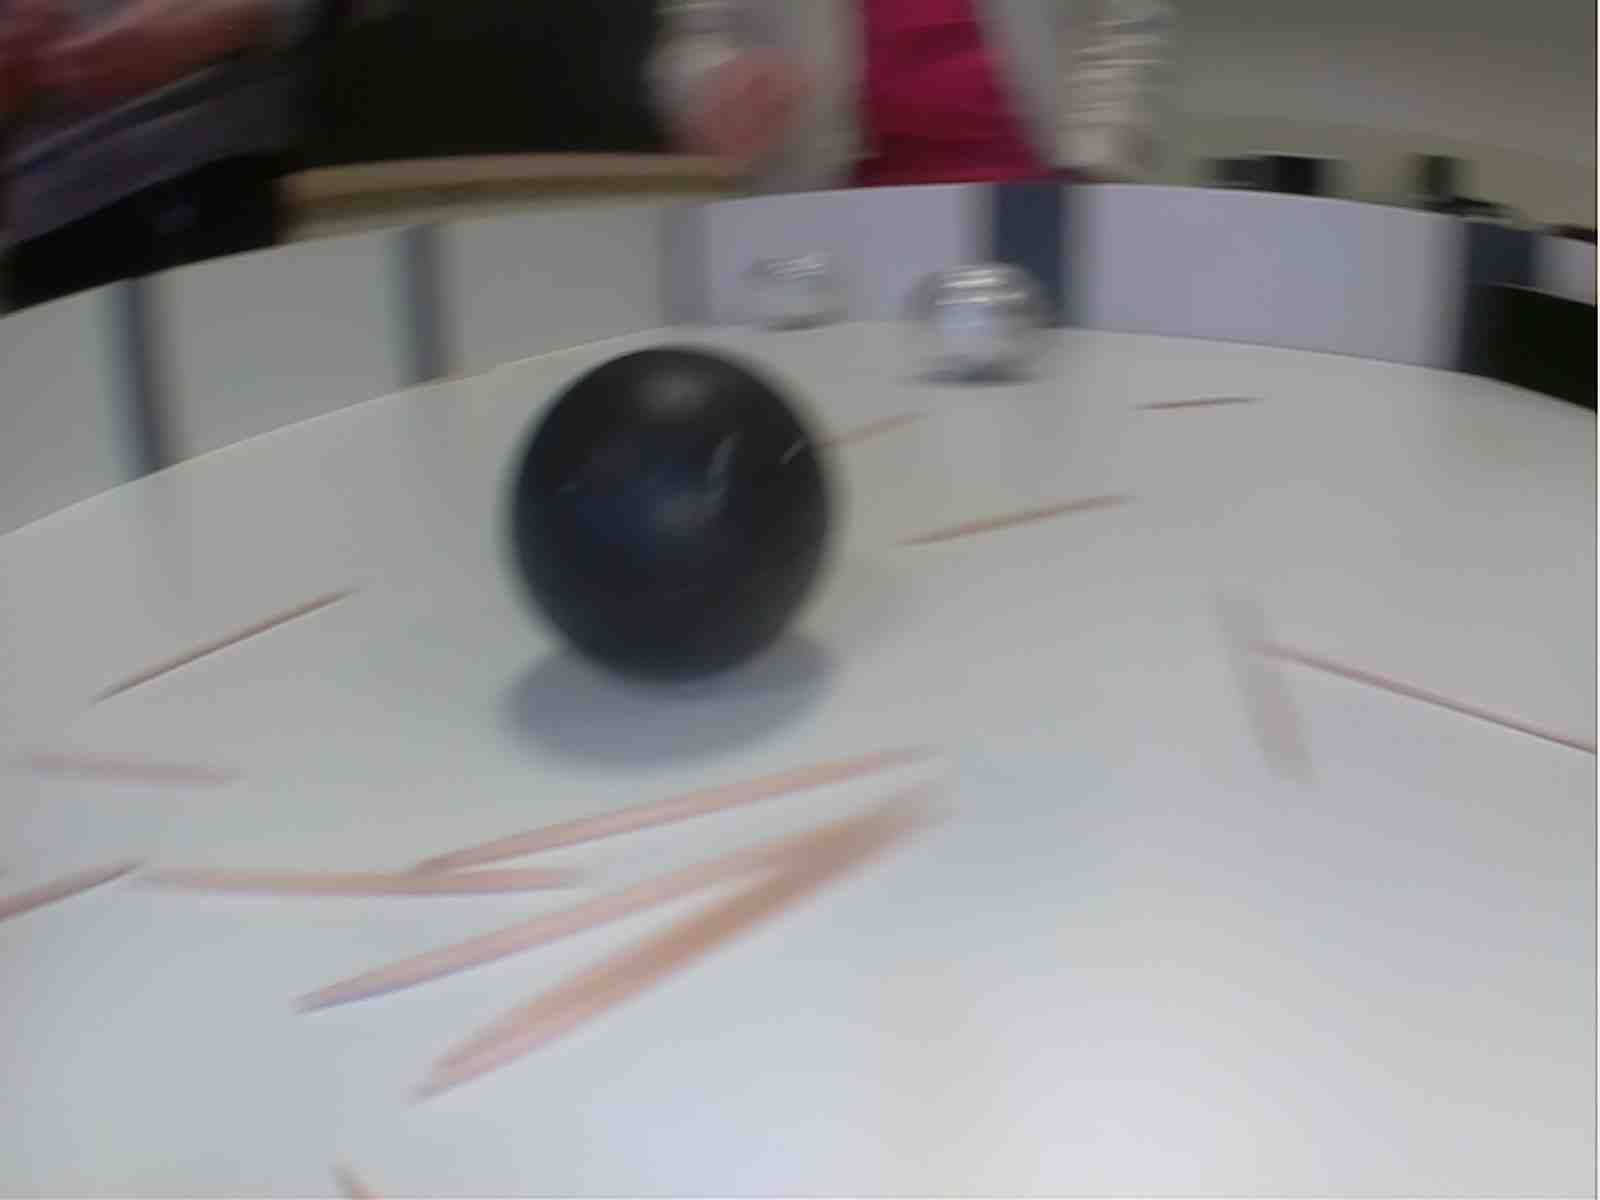bianca: (905, 258, 1063, 382), (747, 239, 850, 338)
nera: (515, 343, 842, 691)
